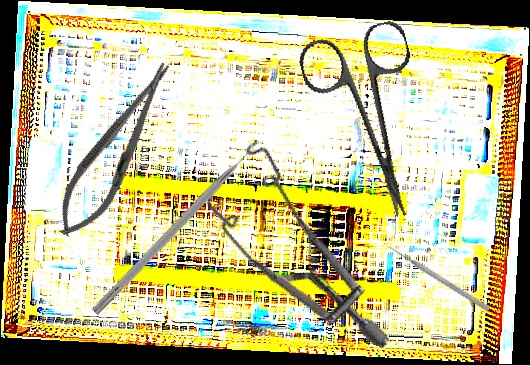Chopper: (90, 139, 271, 325)
Iris Scissors: (295, 18, 450, 231)
Needle Holder: (43, 52, 189, 248)
Pusher: (386, 243, 492, 313)
Speculum: (166, 126, 440, 350)
